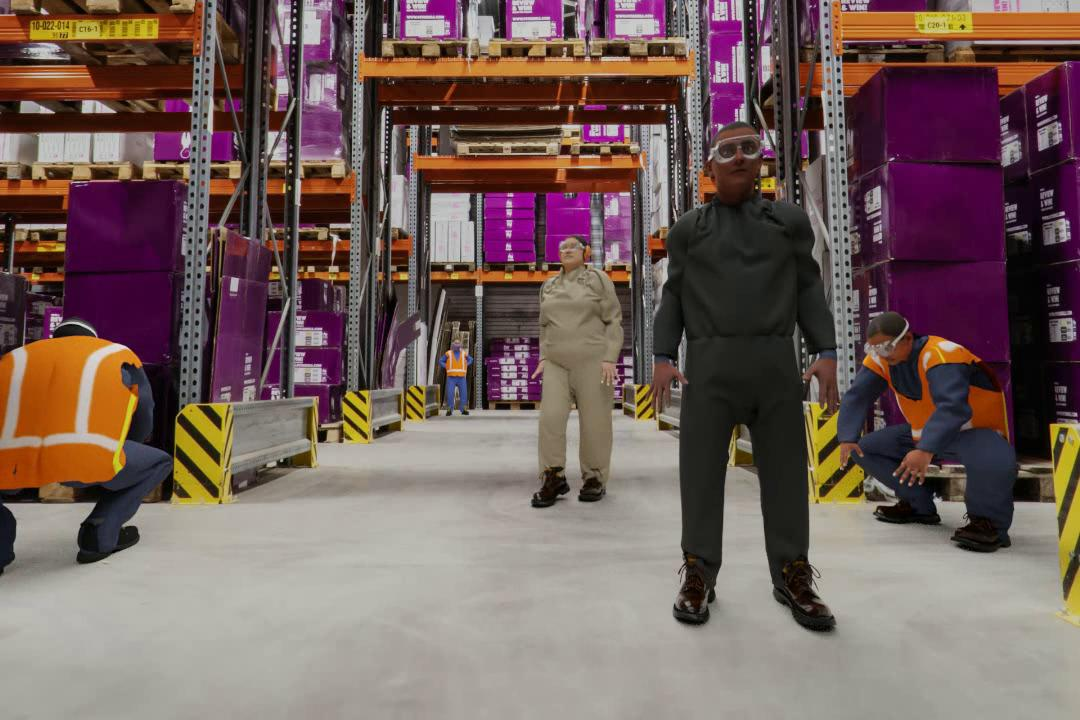Goggles: (704, 133, 774, 170), (861, 340, 906, 357), (556, 237, 586, 256)
Jacket: (6, 333, 130, 491), (867, 362, 991, 443), (446, 349, 467, 377)
Shoes: (767, 546, 841, 639), (651, 561, 724, 636), (71, 520, 147, 566), (521, 460, 571, 521), (579, 466, 613, 509), (460, 408, 472, 418), (446, 407, 453, 418)
